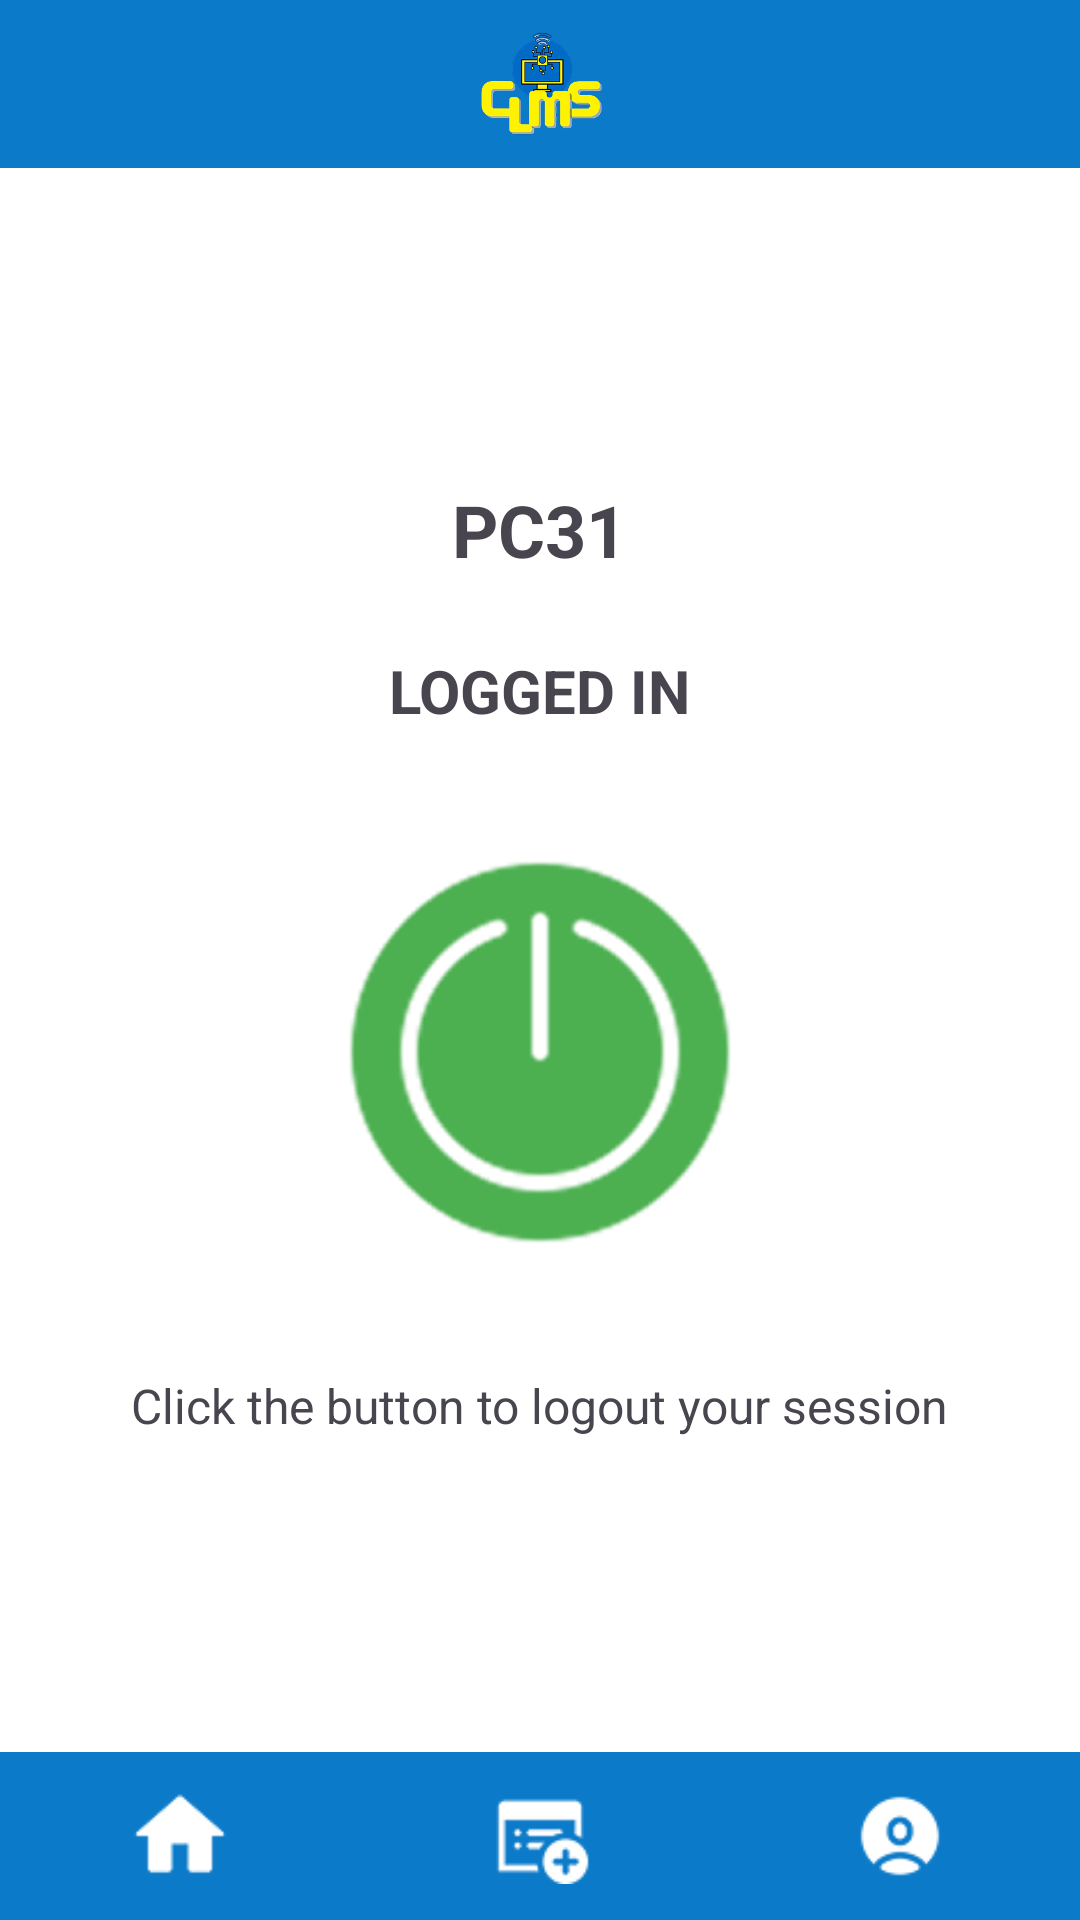

Icon bounding boxes for this 1080 × 1920 phone screenshot, format (x1, y1, x2, y2):
Home: (135, 1794, 225, 1873)
Issue: (497, 1799, 589, 1884)
Profile: (860, 1796, 940, 1876)
